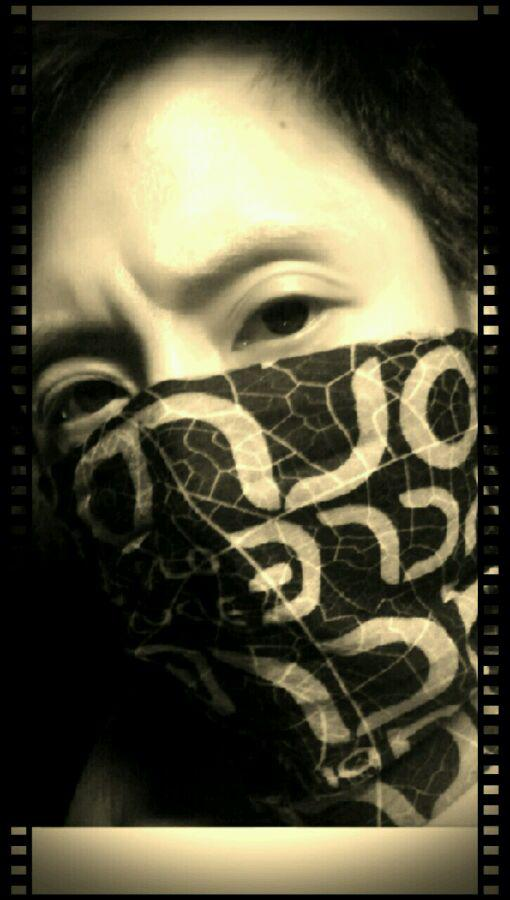OK: (14, 224, 450, 660)
